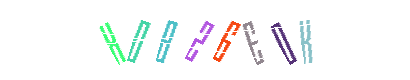0: (112, 0, 192, 80)
2: (164, 0, 244, 80)
6: (186, 0, 266, 80)
8: (159, 0, 239, 80)
E: (210, 0, 290, 80)
K: (243, 0, 323, 80)
O: (215, 0, 295, 80)
X: (72, 0, 152, 80)
